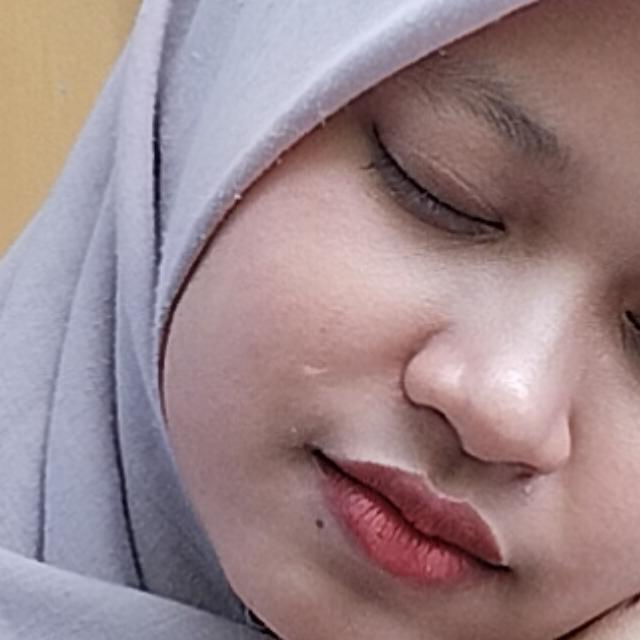tidur: (66, 228, 640, 640)
